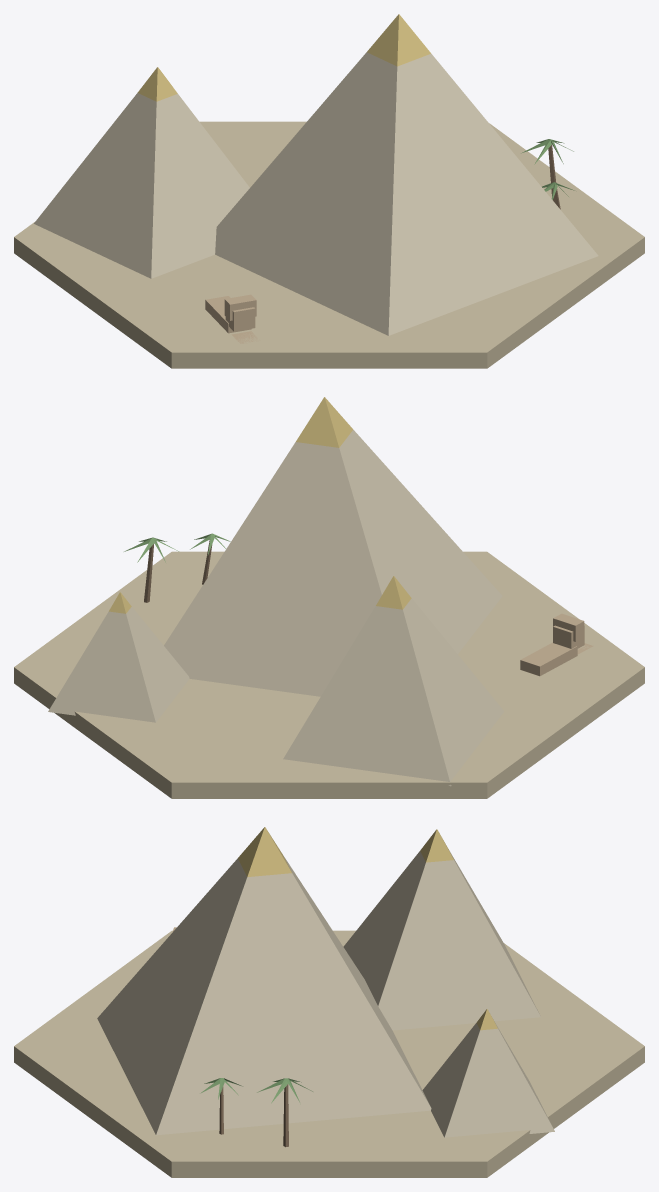
Rendered from pyramids.glb.
3 views of the same model, one above another, from view 1: azimuth 30°, elevation 25°; view 2: azimuth 150°, elevation 25°; view 3: azimuth 270°, elevation 25° (orthographic).
Parts seen in each view (by area): view 1: LOD0; view 2: LOD0; view 3: LOD0.
Part boxes in pixels (x1=…): LOD0: x1=14, y1=14, x2=644, y2=368; LOD0: x1=14, y1=397, x2=644, y2=798; LOD0: x1=14, y1=827, x2=644, y2=1177.
Size of what is drawn, in the model's own units: 1.52 by 0.78 by 1.76.
